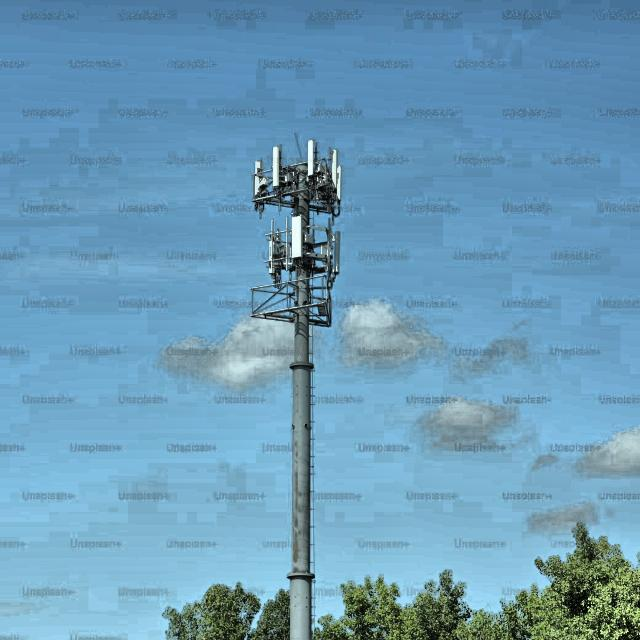antenna: (291, 216, 302, 257), (272, 145, 280, 186), (254, 160, 263, 195), (333, 231, 340, 274), (307, 139, 314, 175), (331, 149, 337, 187), (336, 166, 341, 199)
